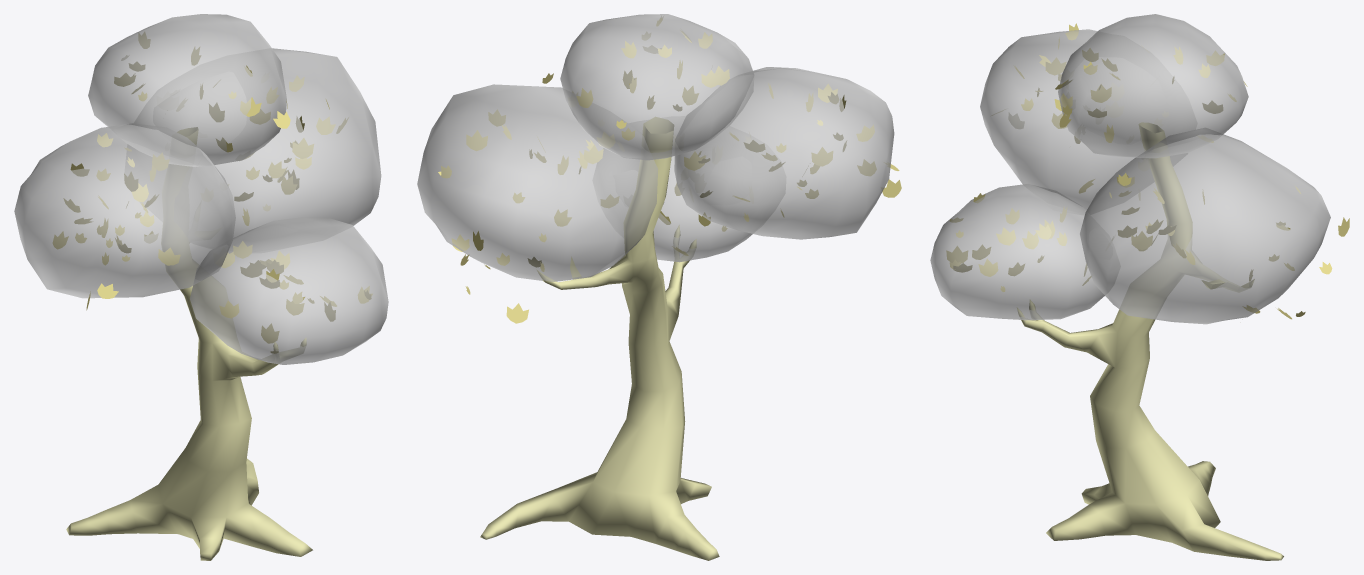
Rendered from rock_kicking_heaven_tree.glb.
3 views of the same model, side by side, from view 1: azimuth 30°, elevation 25°; view 2: azimuth 150°, elevation 25°; view 3: azimuth 270°, elevation 25° (orthographic). The views are drawn at different scales.
Visible parts, largest first — view 1: HeavenTreeReal; view 2: HeavenTreeReal; view 3: HeavenTreeReal.
Part boxes in pixels (left/top/right/bottom): HeavenTreeReal: left=14, top=14, right=388, bottom=560; HeavenTreeReal: left=417, top=14, right=901, bottom=560; HeavenTreeReal: left=930, top=14, right=1349, bottom=560.
Bounding box in the file's own units: 21.04 × 26.22 × 20.69.
